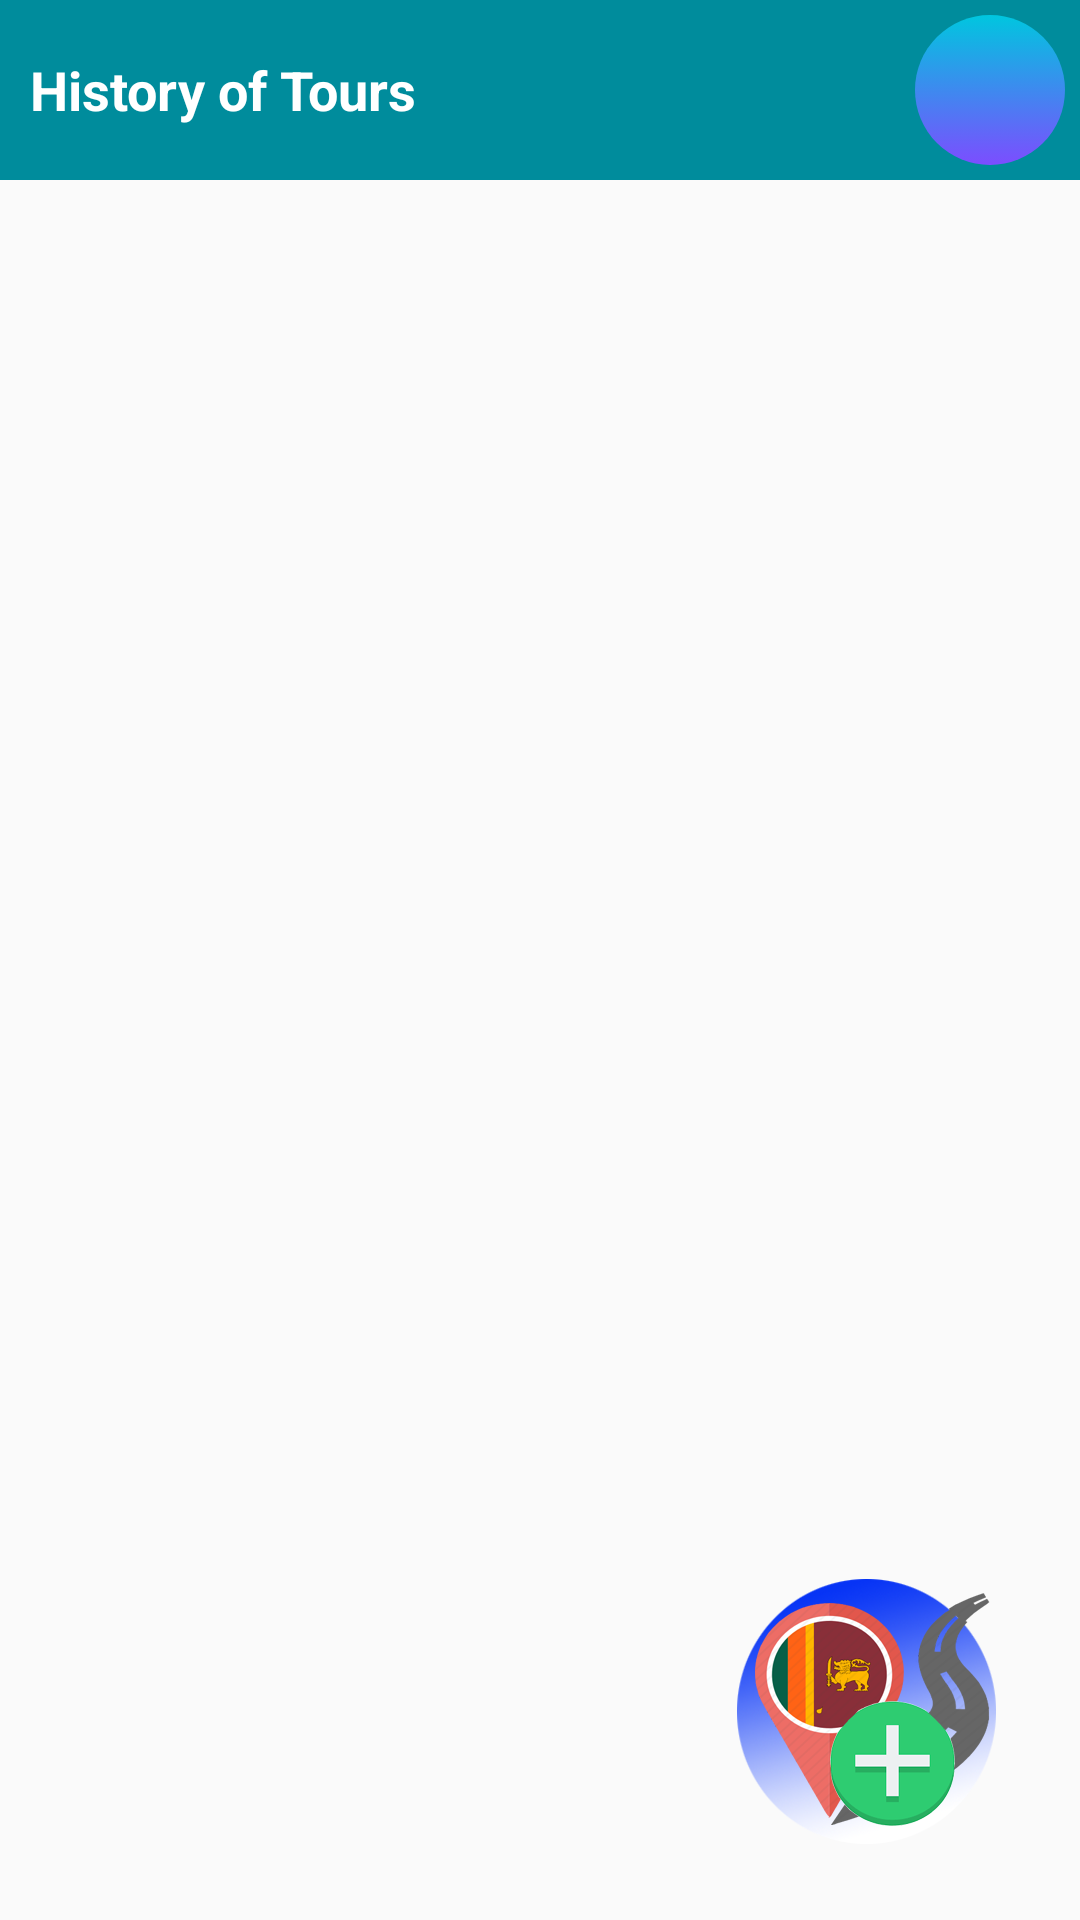

Screen size 1080 x 1920. Icon name, then its center in pixels as (x=x, y=y):
addtour: (x=866, y=1702)
